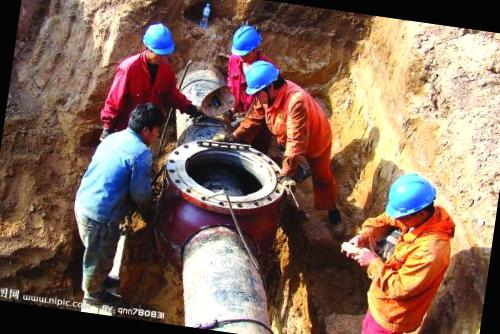no_helmet: (122, 96, 167, 148)
